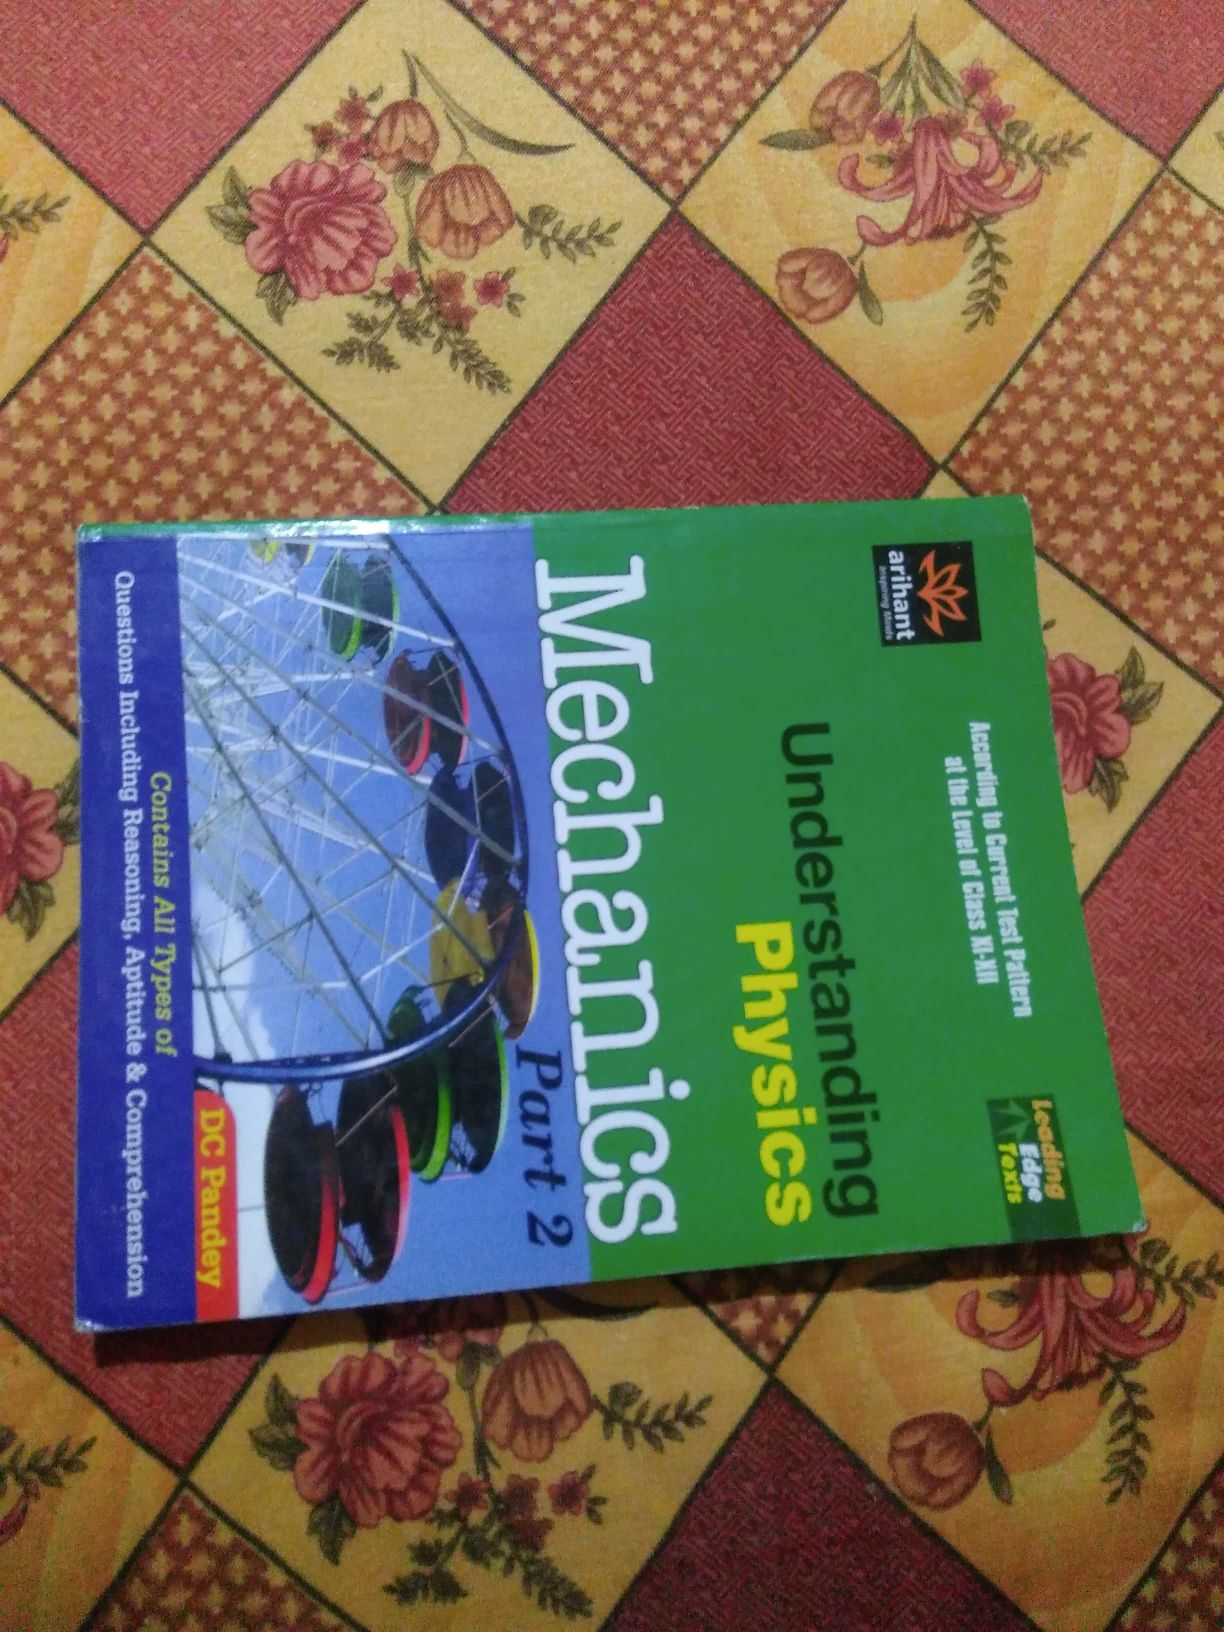mechanics: (46, 492, 1197, 1333)
